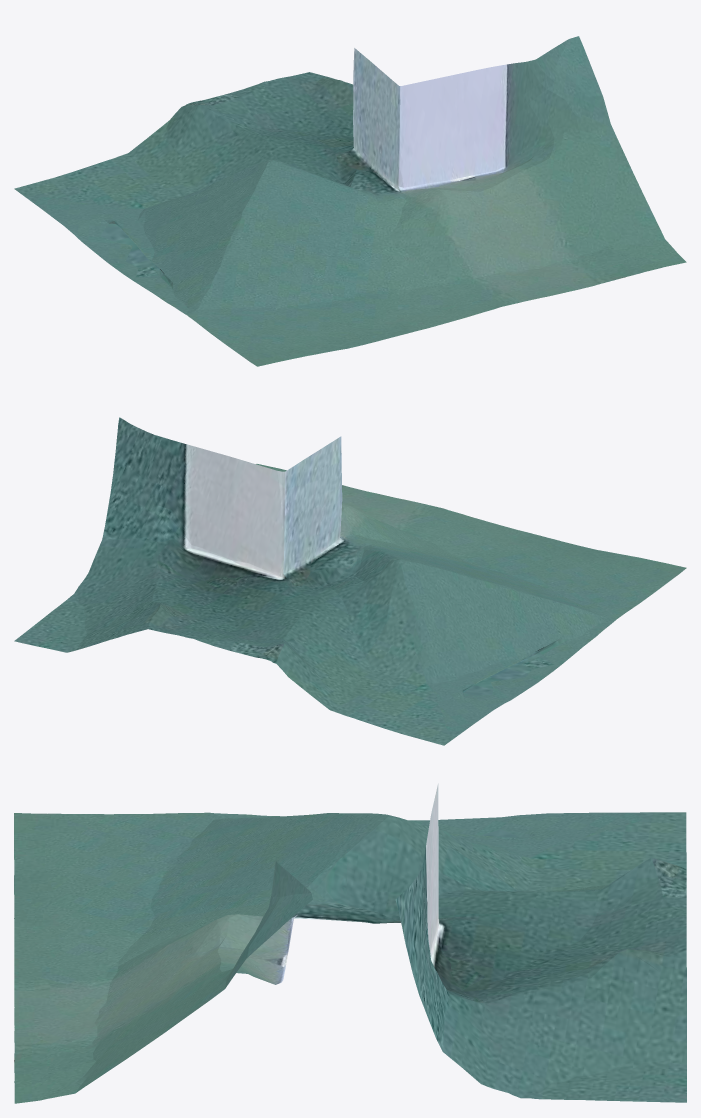
The model's file is Tile_+008_+007_L19_00010.glb.
The picture shows the model from 3 angles, top to bottom: view 1: azimuth 30°, elevation 25°; view 2: azimuth 150°, elevation 25°; view 3: azimuth 270°, elevation 25°; orthographic projection. The views are drawn at different scales.
Visible parts, largest first — view 1: rtc; view 2: rtc; view 3: rtc.
Boxes of the visible parts, x1=… form: rtc: x1=14, y1=36, x2=686, y2=366; rtc: x1=14, y1=417, x2=686, y2=745; rtc: x1=14, y1=783, x2=686, y2=1103.
Bounding box in the file's own units: 49.36 × 16.74 × 48.34.
1 material, 1 textured.
